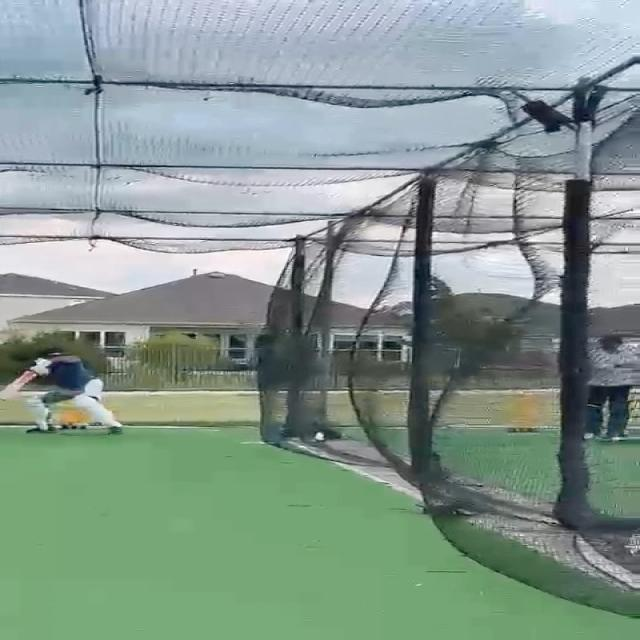batsman: (0, 343, 129, 438)
